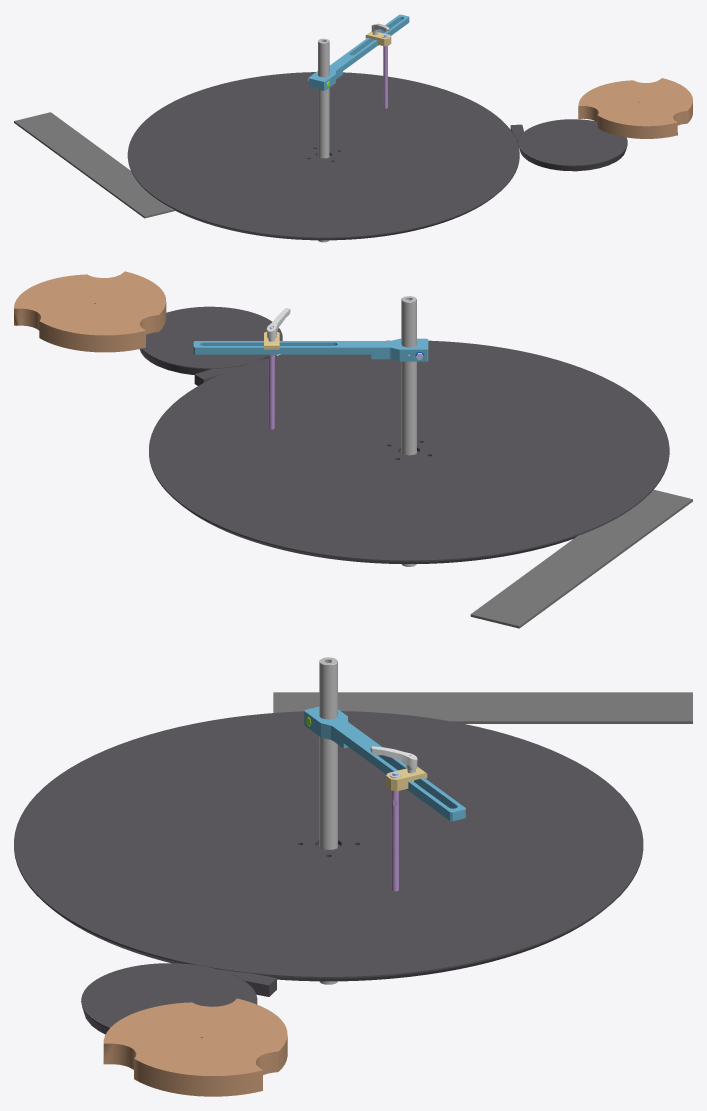
The model's file is PhysicsDemo.fbx.
3 renders of one model, top to bottom at view 1: azimuth 30°, elevation 25°; view 2: azimuth 150°, elevation 25°; view 3: azimuth 270°, elevation 25°, orthographic. The views are drawn at different scales.
Visible parts, largest first — view 1: Rotate1, Rotate3, Incoming, Rotate2, Machine; view 2: Rotate1, Rotate3, Incoming, Machine, Rotate2; view 3: Rotate1, Rotate3, Incoming, Machine, Rotate2.
Boxes of the visible parts, x1,y1,x2,y2 form: Rotate1: [127, 72, 519, 240]; Rotate3: [578, 78, 692, 138]; Incoming: [14, 112, 175, 218]; Rotate2: [518, 119, 627, 171]; Machine: [308, 14, 523, 242]; Rotate1: [149, 340, 669, 563]; Rotate3: [14, 271, 166, 352]; Incoming: [470, 489, 692, 628]; Machine: [193, 296, 428, 566]; Rotate2: [139, 306, 282, 374]; Rotate1: [14, 711, 643, 981]; Rotate3: [103, 998, 287, 1096]; Incoming: [273, 692, 692, 723]; Machine: [218, 657, 465, 996]; Rotate2: [81, 963, 257, 1034].
Size of what is drawn, in the model's own units: 154 by 56.05 by 108.
